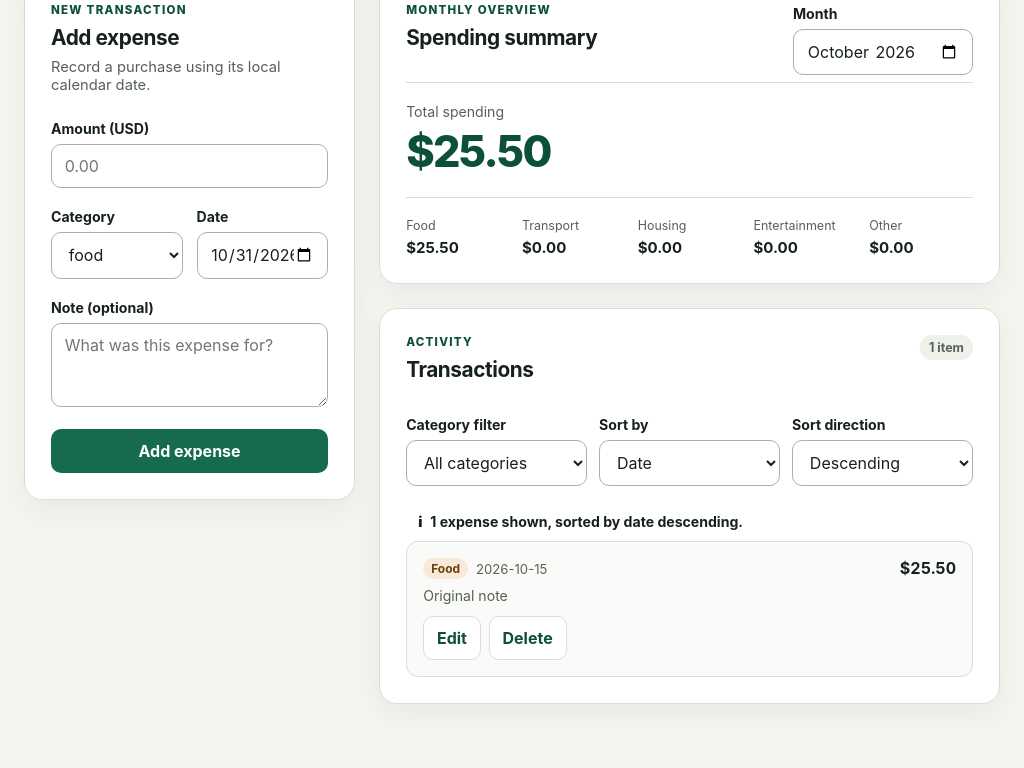
Test: edit amount validation › AMOUNT-001: accepts 1.2 using the add parser and preserves identity
(page scrolled)
Click the button with aria-label "Edit expense". click: coordinates (452, 638)
box: [423,616,481,660]
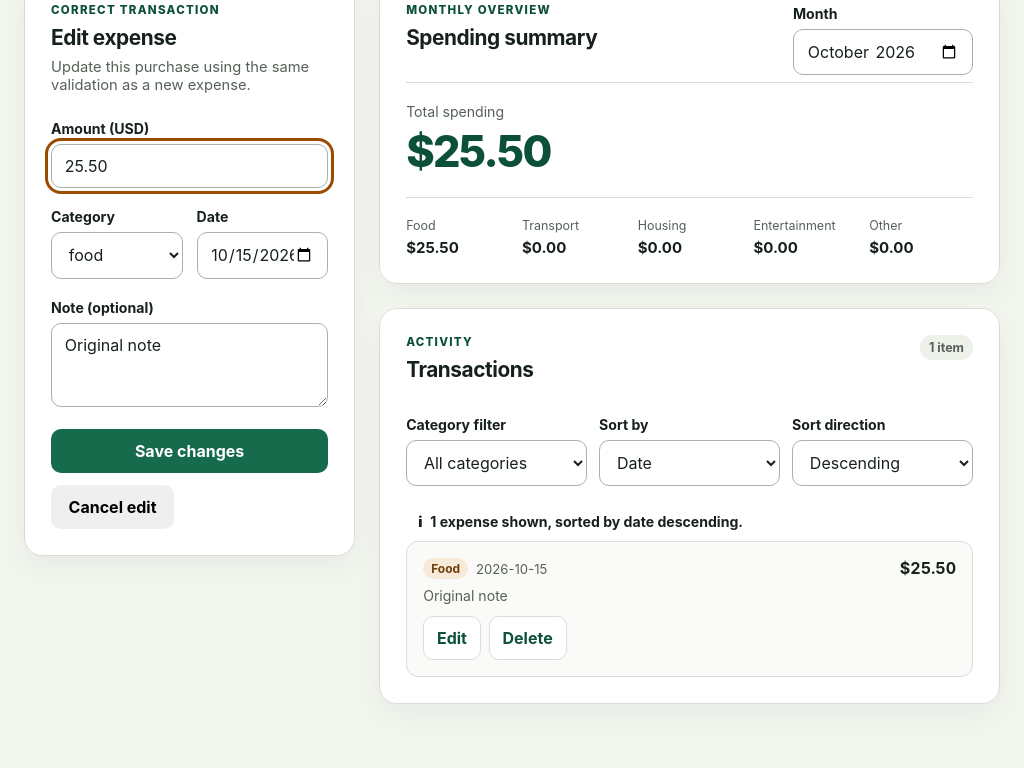
Check: the heading "Edit expense" is shown, box [51,25,176,50]
Check: the field labelled "Amount (USD)" holds "25.50"
Check: the date field labelled "Date" holds "2026-10-15", box [197,232,328,278]
Replace the text in the field labelled "Amount (USD)" with "1.2". click: coordinates (190, 166)
box: [51,144,328,188]
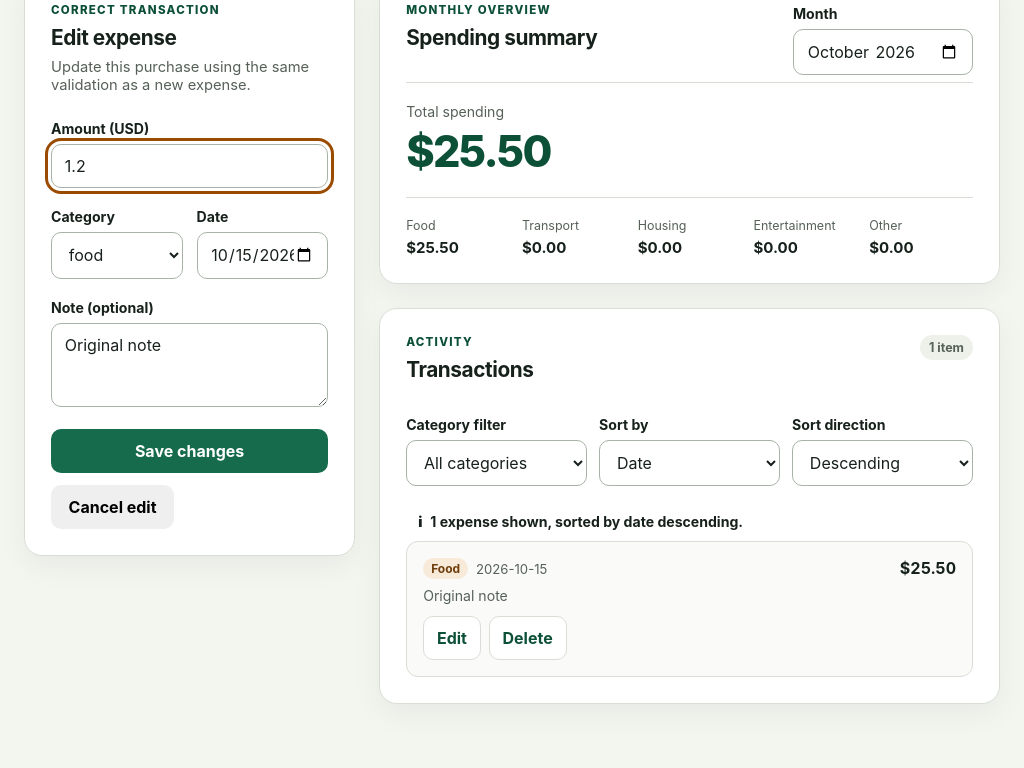
Click the button "Save changes". click: coordinates (190, 451)
box: [51,429,328,473]
(page scrolled)
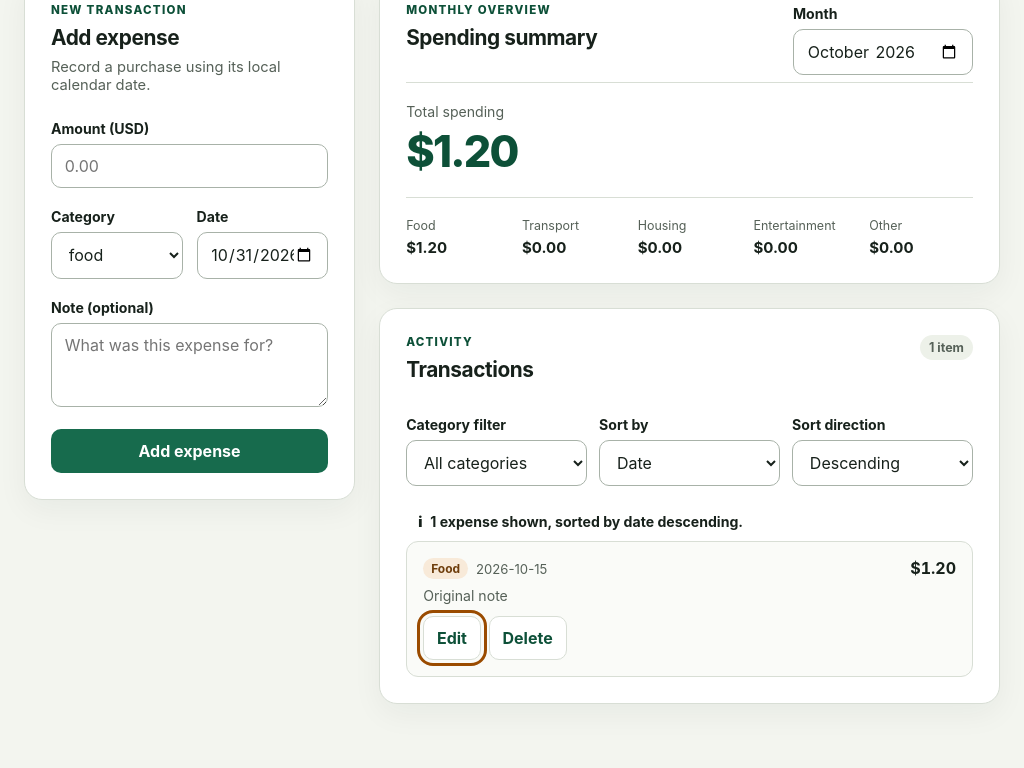
Check: the list item "food 2026-10-15 $1.20 Original note Edit Delete" is shown, box [406,541,973,677]
Check: the text named "Monthly total" reads "$1.20", box [406,125,518,177]
